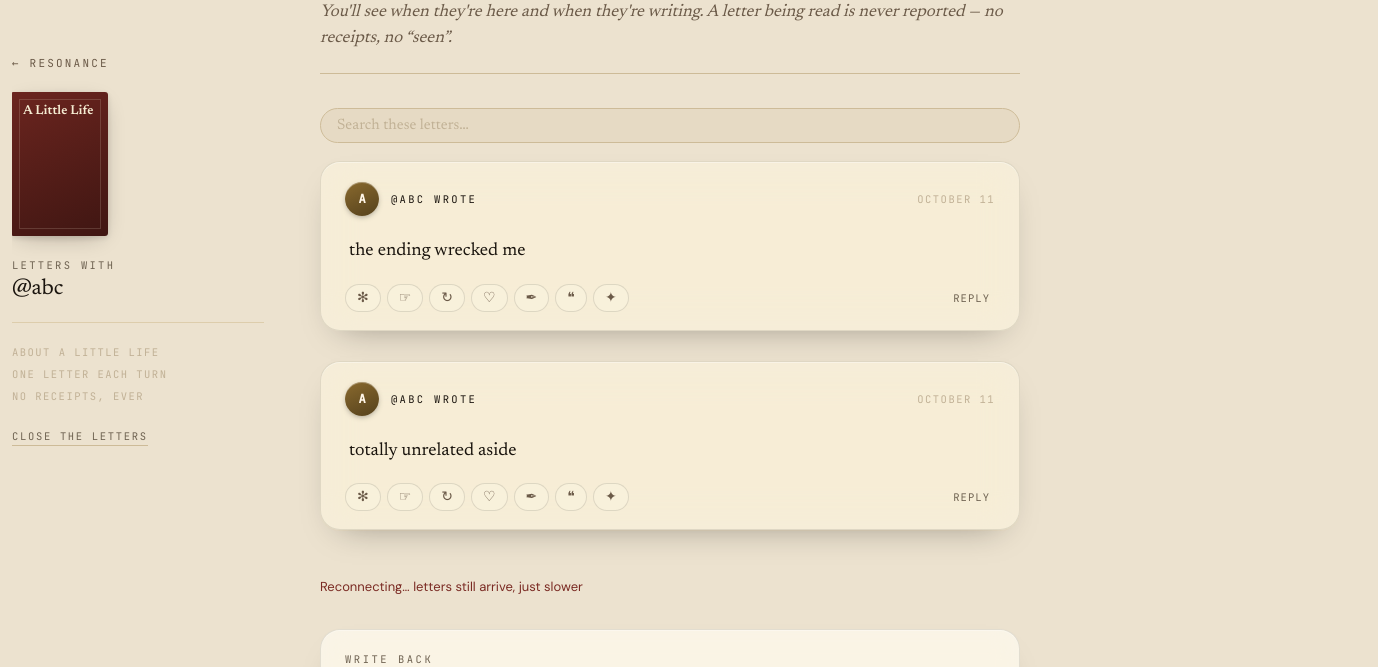
Test: ResonanceThread — reply and reactions › filters the visible letters by a search query
The width and height of the screenshot is (1378, 667).
Expected: the text "the ending wrecked me" is shown, x1=349 y1=242 x2=526 y2=260
Type "ending" into the search field named "search letters" at (670,126), box x1=320 y1=108 x2=1020 y2=143
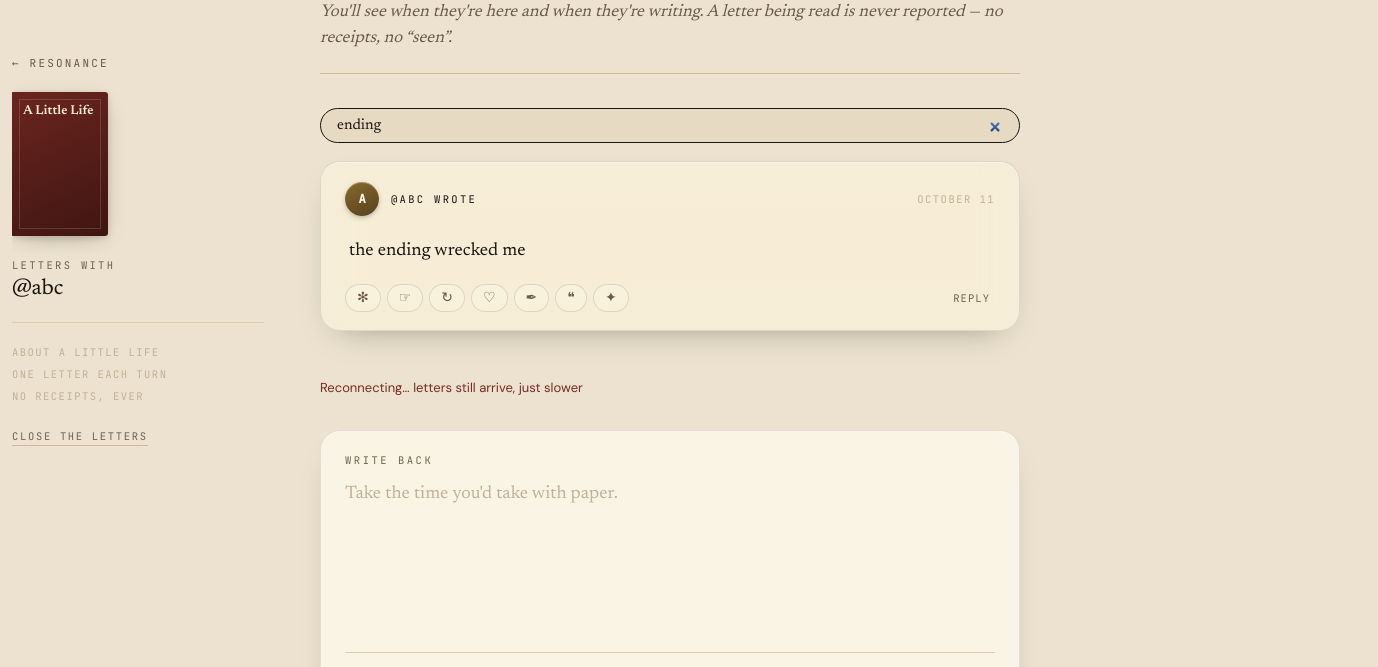
Expected: the text "the ending wrecked me" is shown, x1=349 y1=242 x2=526 y2=260
Now the text "totally unrelated aside" is gone
